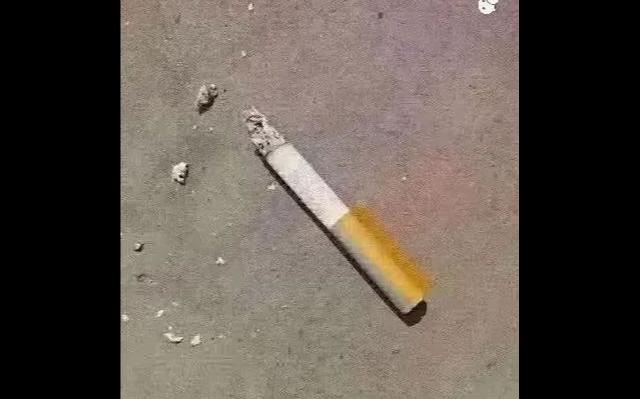Cigarette: (243, 107, 428, 311)
